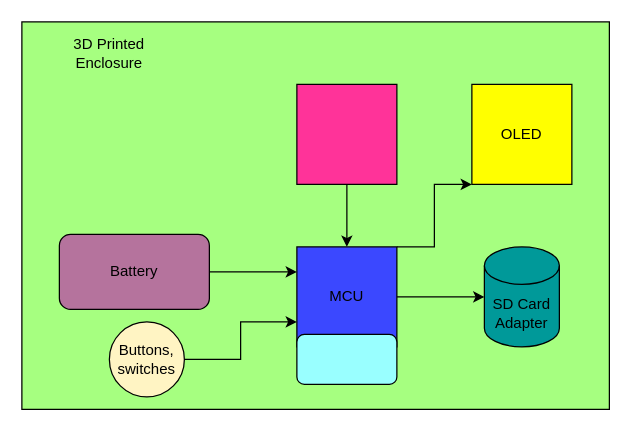
This 631x431 diagram has some shape labels left out. The shapes that lost their labels are listed below. From the top down, each one's centre as x and y in pixels, then its label:
pixel 346 133: MPU6050
pixel 346 358: Wireless Interfaces
